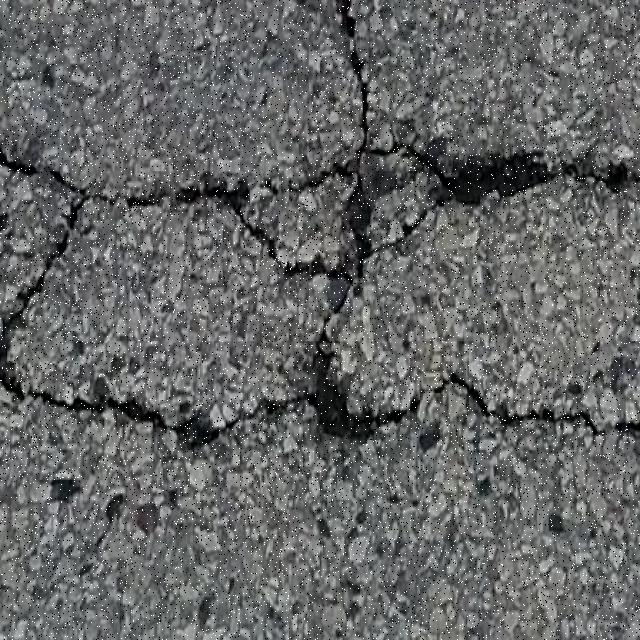Crack: (185, 0, 555, 440), (0, 160, 251, 448), (431, 378, 608, 437), (555, 165, 640, 194), (0, 139, 32, 174), (380, 181, 409, 198), (291, 178, 325, 192), (610, 426, 640, 434)
